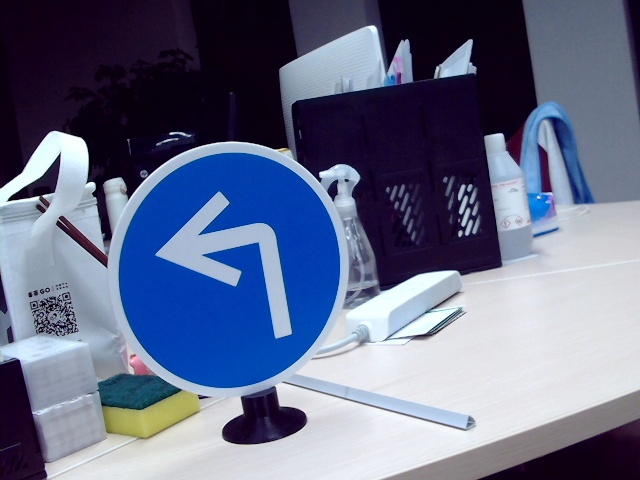turn_left: (154, 193, 305, 337)
